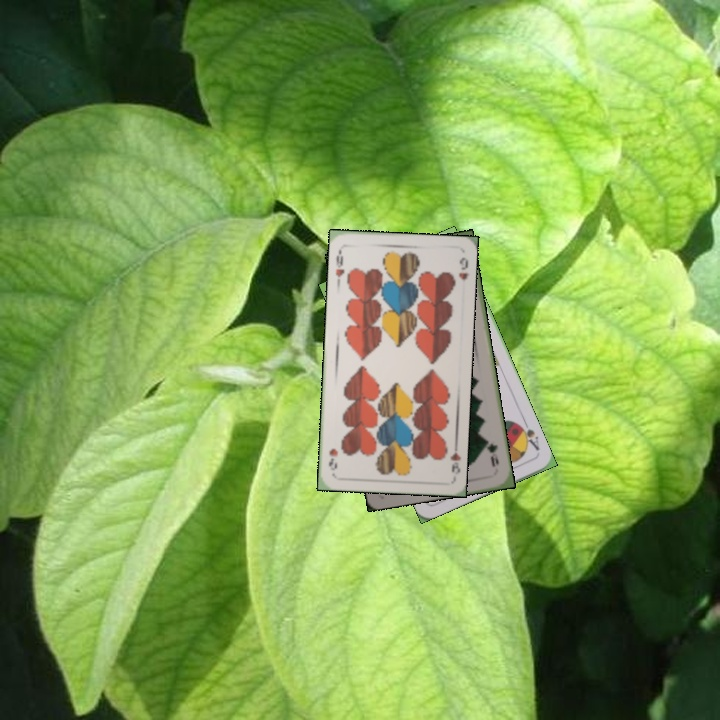G9: (482, 434, 501, 470)
H9: (446, 439, 463, 477), (331, 246, 347, 286)
SA: (514, 417, 542, 453)
